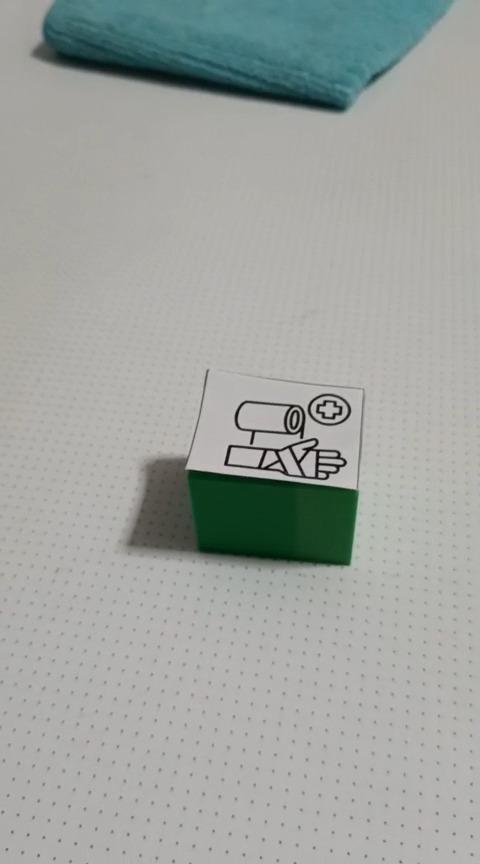Bandages: (41, 0, 458, 112), (183, 367, 365, 566)
